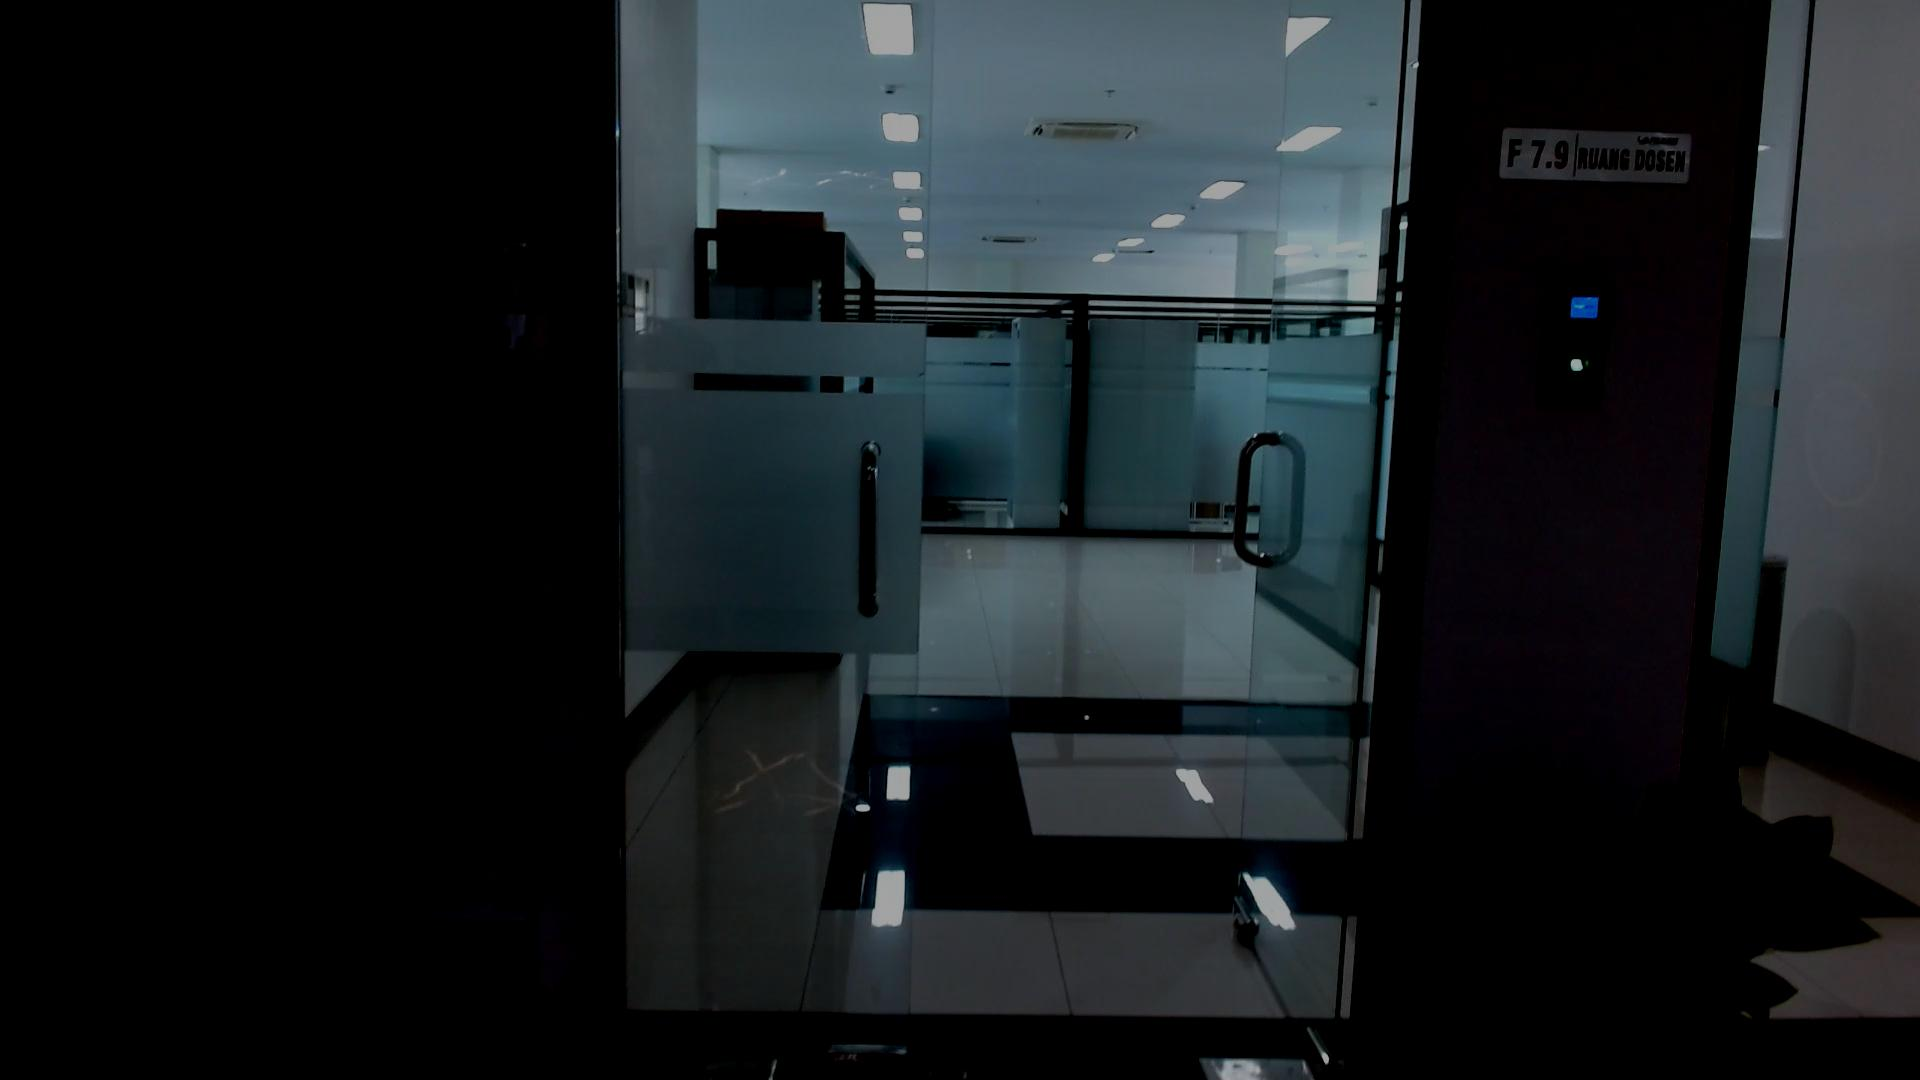plate: (1498, 127, 1693, 185)
